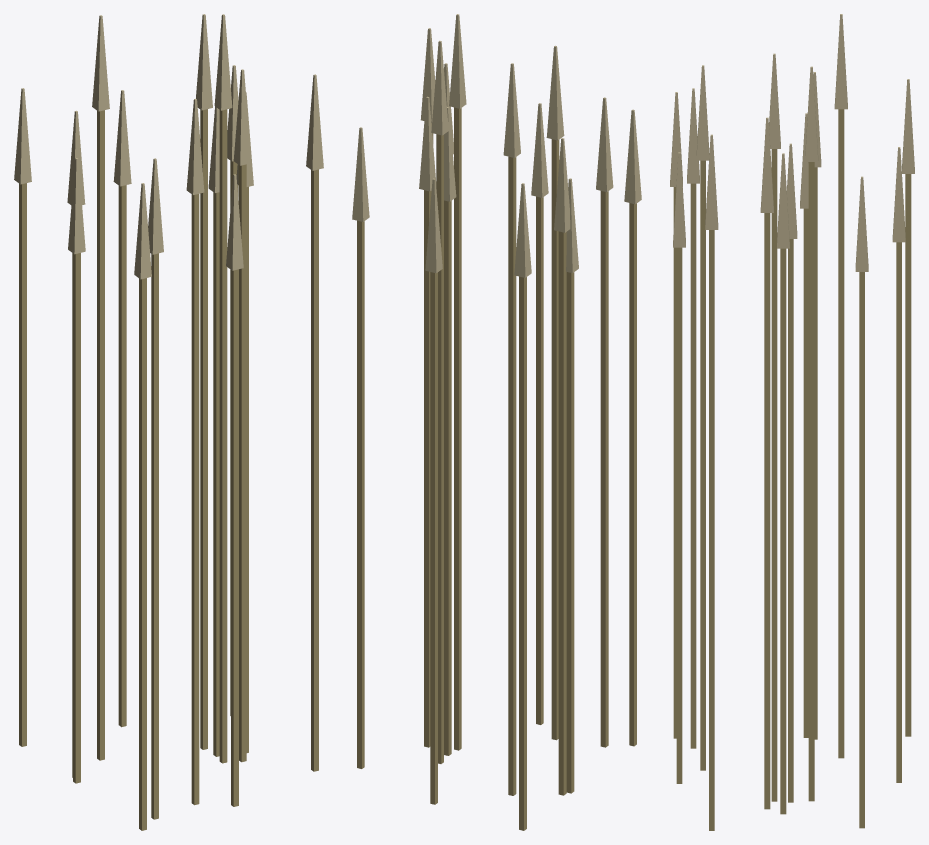
The model's file is e11-reed-bed-clump.glb.
3 renders of one model, left to right at view 1: azimuth 30°, elevation 25°; view 2: azimuth 150°, elevation 25°; view 3: azimuth 270°, elevation 25°, orthographic.
Visible parts, largest first — view 1: part0, part1; view 2: part0, part1; view 3: part0, part1.
Part boxes in pixels (<box>): part0: <box>19,109,318,830</box>; part1: <box>14,14,323,279</box>; part0: <box>357,107,636,830</box>; part1: <box>352,14,641,277</box>; part0: <box>673,109,911,830</box>; part1: <box>670,14,914,271</box>.
Size of the model in its own units: 815 by 2838 by 844.
